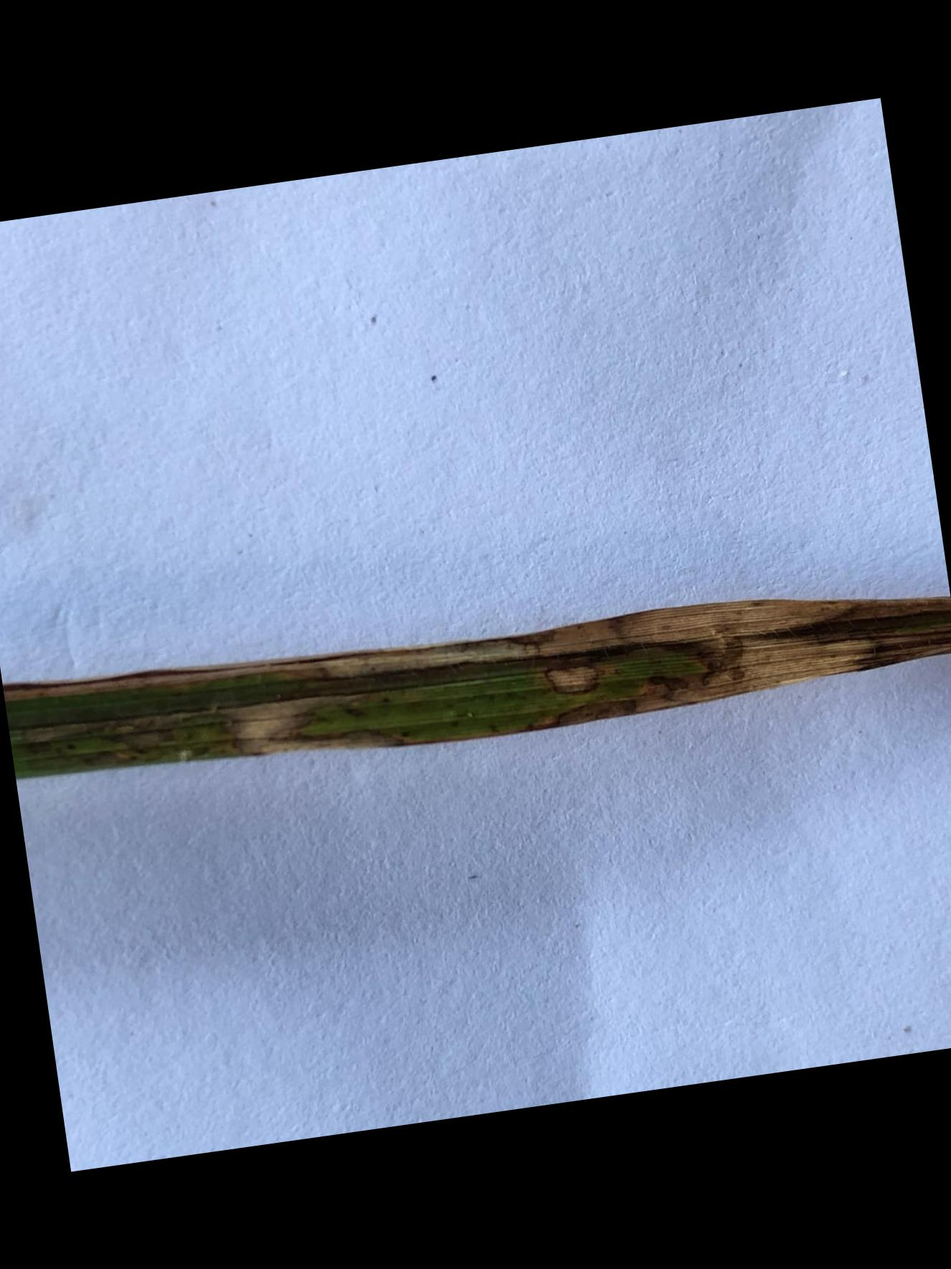Leaf Blight: (2, 593, 951, 780)
